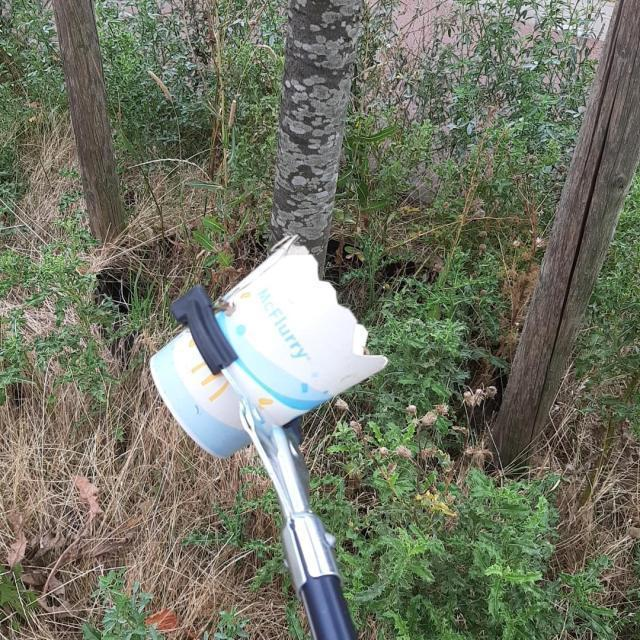Paper: (146, 234, 390, 461)
